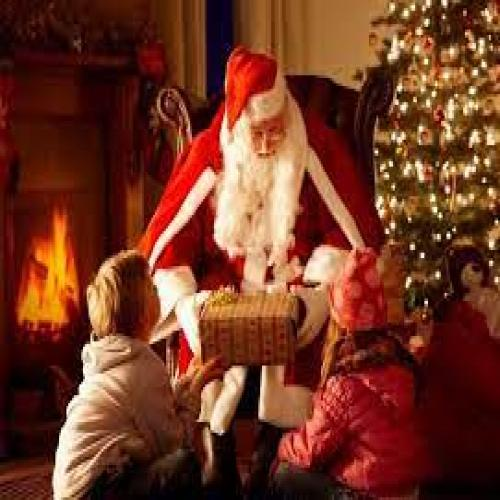Santa: (141, 49, 379, 434)
